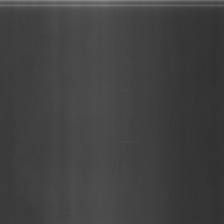welding_line: (0, 0, 224, 16)
